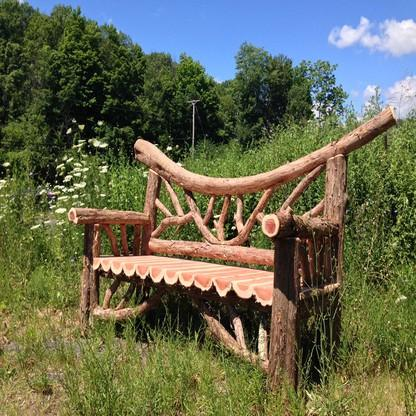obstacle: (65, 115, 388, 388)
